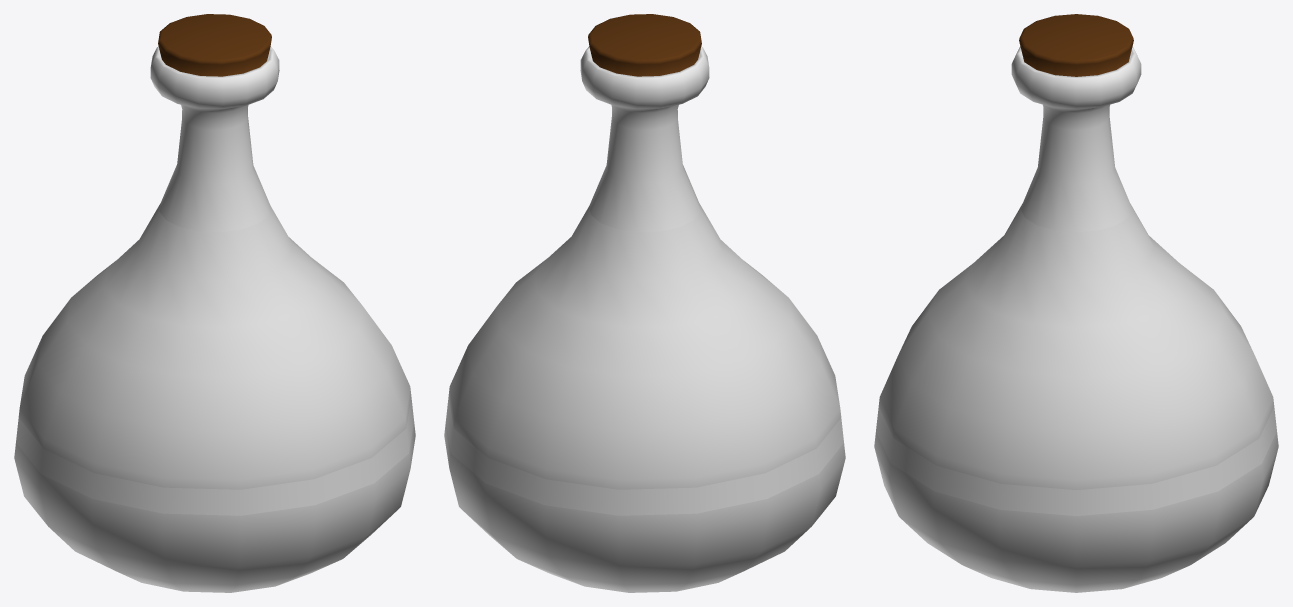
Rendered from Potion.fbx.
3 renders of one model, left to right at view 1: azimuth 30°, elevation 25°; view 2: azimuth 150°, elevation 25°; view 3: azimuth 270°, elevation 25°, orthographic.
Parts seen in each view (by area): view 1: Pot; view 2: Pot; view 3: Pot.
Part boxes in pixels (x1,y1,x2,y2): Pot: [14, 14, 415, 592]; Pot: [444, 14, 845, 592]; Pot: [874, 14, 1278, 592].
Bounding box in the file's own units: 56.75 × 78.18 × 56.75.
